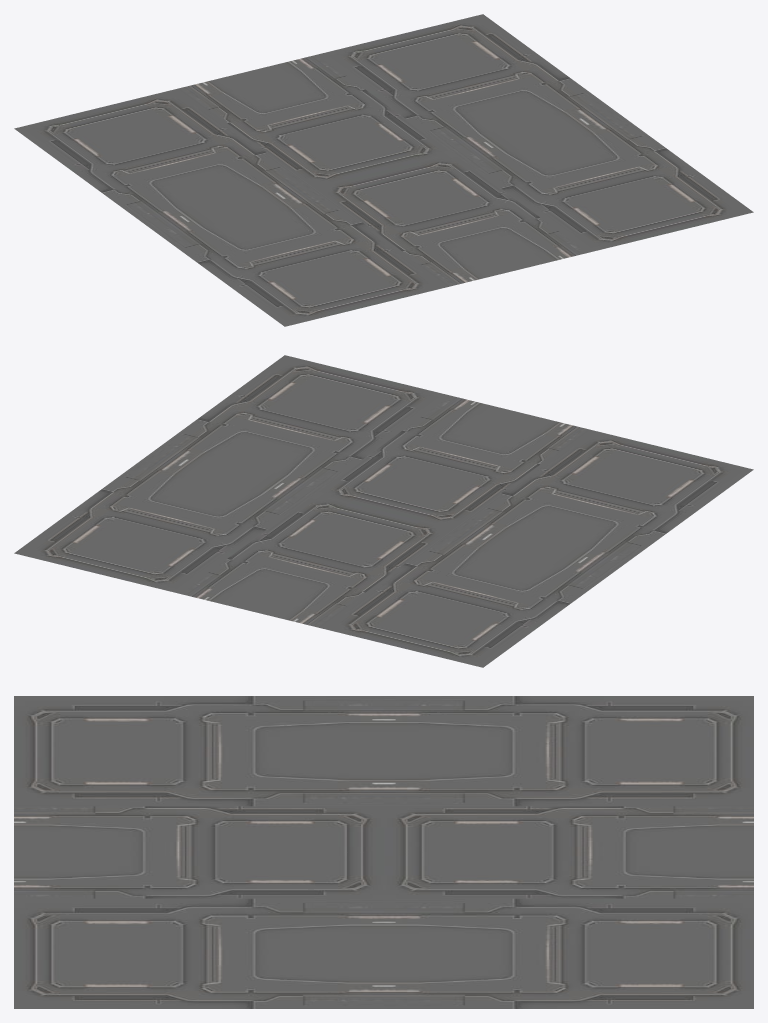
The model's file is sf_floor_3plates.glb.
3 renders of one model, top to bottom at view 1: azimuth 30°, elevation 25°; view 2: azimuth 150°, elevation 25°; view 3: azimuth 270°, elevation 25°, orthographic. The views are drawn at different scales.
Parts seen in each view (by area): view 1: Platform_3Plates; view 2: Platform_3Plates; view 3: Platform_3Plates.
Part boxes in pixels (<box>): Platform_3Plates: <box>14,14,753,326</box>; Platform_3Plates: <box>14,355,753,667</box>; Platform_3Plates: <box>14,696,753,1008</box>.
Bounding box in the file's own units: 4 × 0 × 4.
Materials: 1 (1 with a texture image).
